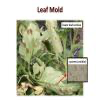Tomato mold leaf: (38, 64, 81, 94), (19, 22, 43, 64), (44, 21, 63, 60), (32, 62, 40, 76)
